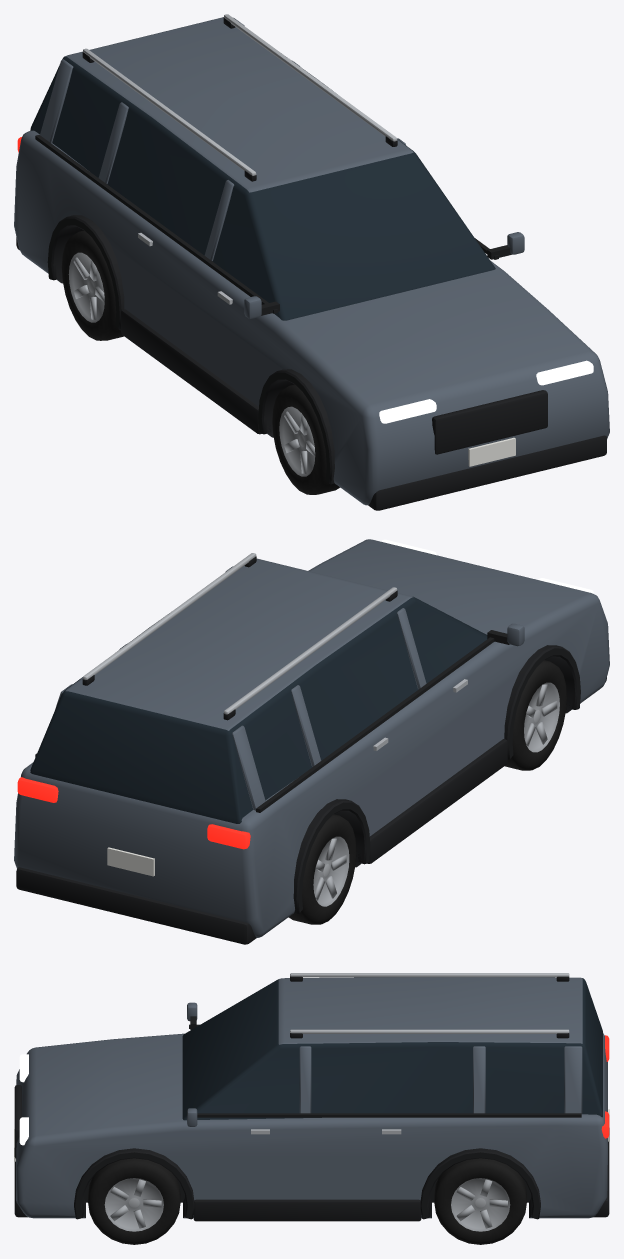
Rendered from suv.glb.
The picture shows the model from 3 angles, top to bottom: view 1: azimuth 30°, elevation 25°; view 2: azimuth 150°, elevation 25°; view 3: azimuth 270°, elevation 25°; orthographic projection. The views are drawn at different scales.
Visible parts, largest first — view 1: body, wheel_fr, wheel_rr; view 2: body, wheel_rr, wheel_fr; view 3: body, wheel_fl, wheel_rl.
Part boxes in pixels (<box>): body: <box>14,14,609,510</box>; wheel_fr: <box>272,384,339,494</box>; wheel_rr: <box>61,230,123,340</box>; body: <box>14,539,609,944</box>; wheel_rr: <box>288,814,356,924</box>; wheel_fr: <box>504,660,566,770</box>; body: <box>14,973,609,1221</box>; wheel_fl: <box>88,1158,180,1244</box>; wheel_rl: <box>434,1158,526,1244</box>.
Size of the model in its own units: 2.04 by 1.68 by 4.63.
